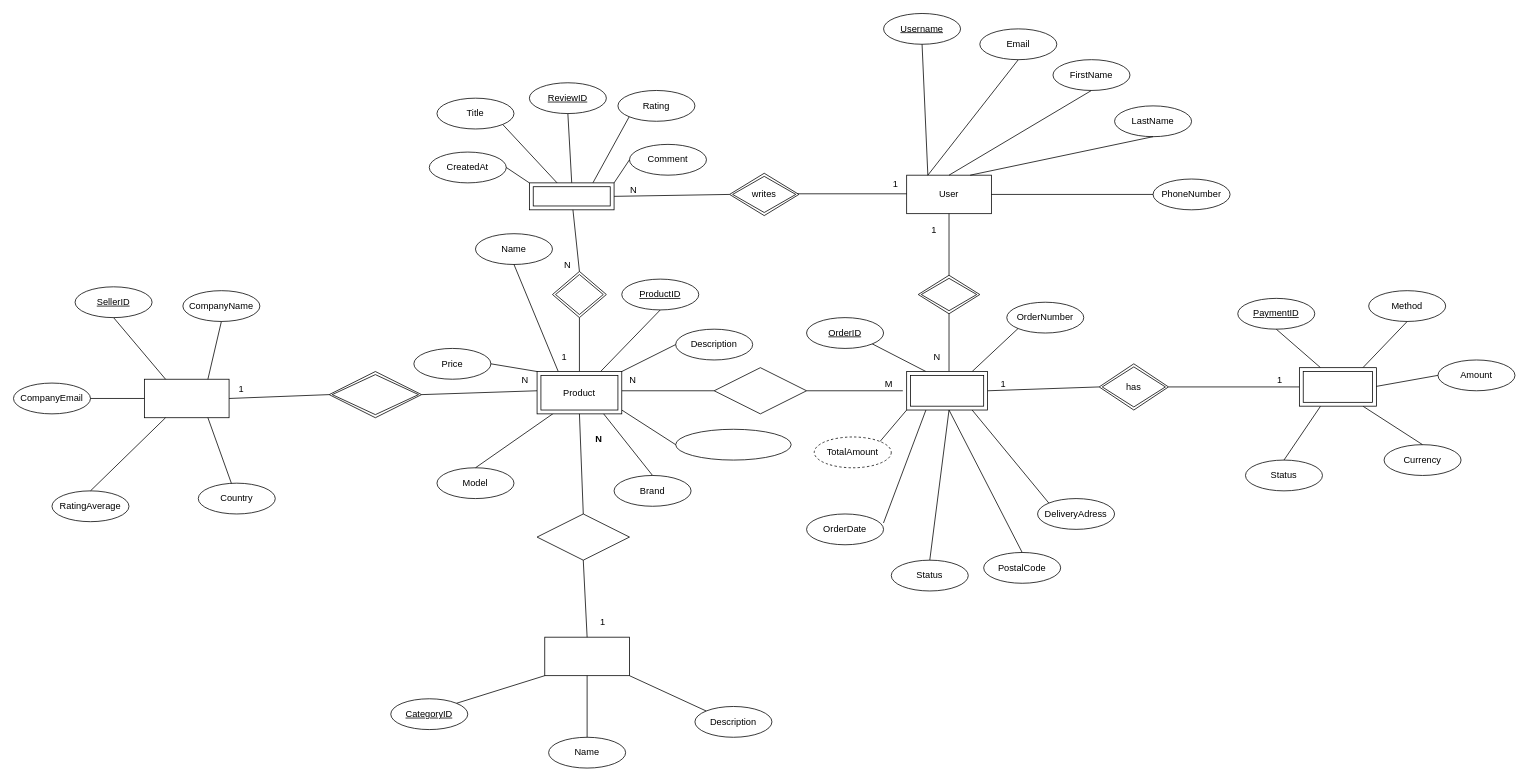
Some shapes in this 1528 by 782 pixel diagram are drawn without their labels. Each missing label, with the centre of its shape:
"belongs to" goes at (582,536).
"Category" goes at (586,656).
"contains" goes at (760,390).
"for" goes at (579,294).
"Order" goes at (947,390).
"Payment" goes at (1337,386).
"places" goes at (948,294).
"Review" goes at (571,196).
"Seller" goes at (186,398).
"sells" goes at (375,394).
"WarrantlyMonths" goes at (733,444).
